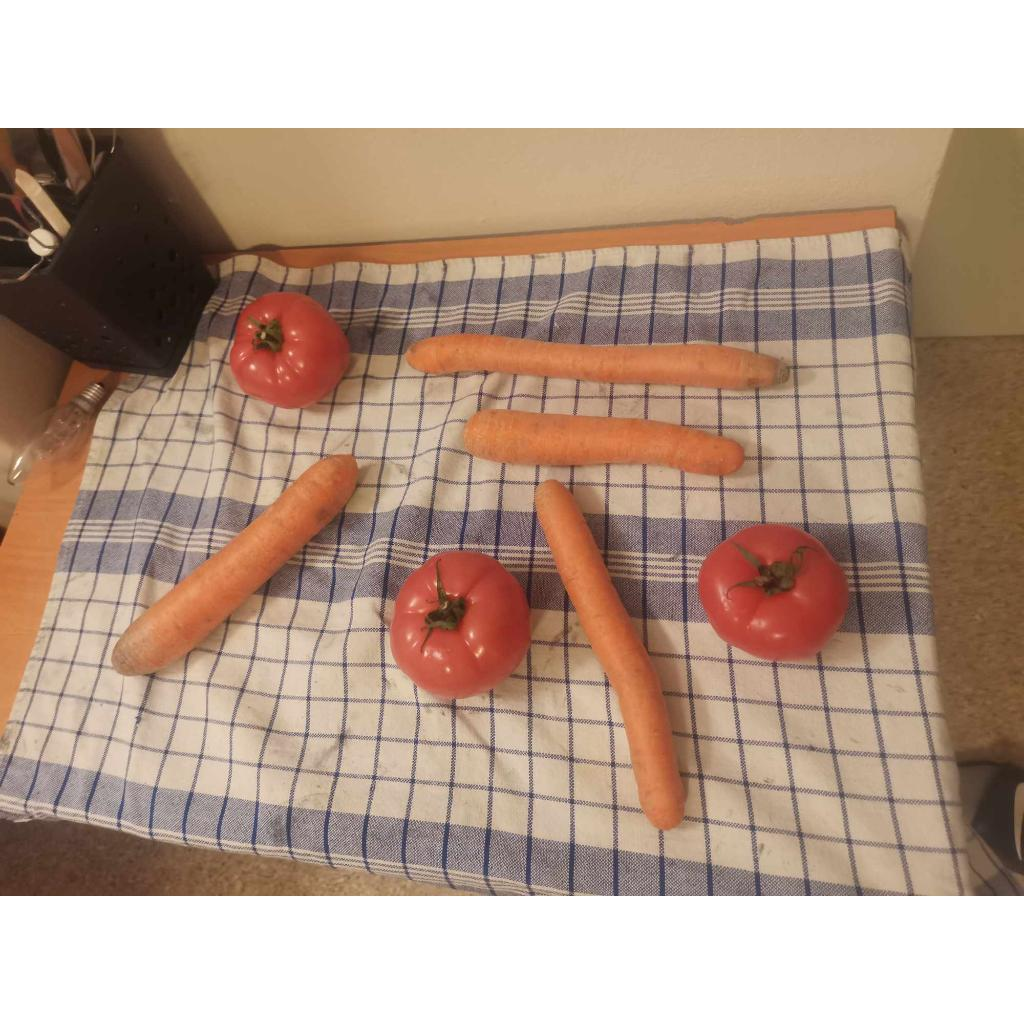carrot: (112, 454, 358, 676), (534, 480, 684, 830), (406, 334, 788, 390), (464, 410, 744, 476)
tomato: (390, 550, 530, 698), (698, 524, 848, 662), (230, 292, 350, 408)
